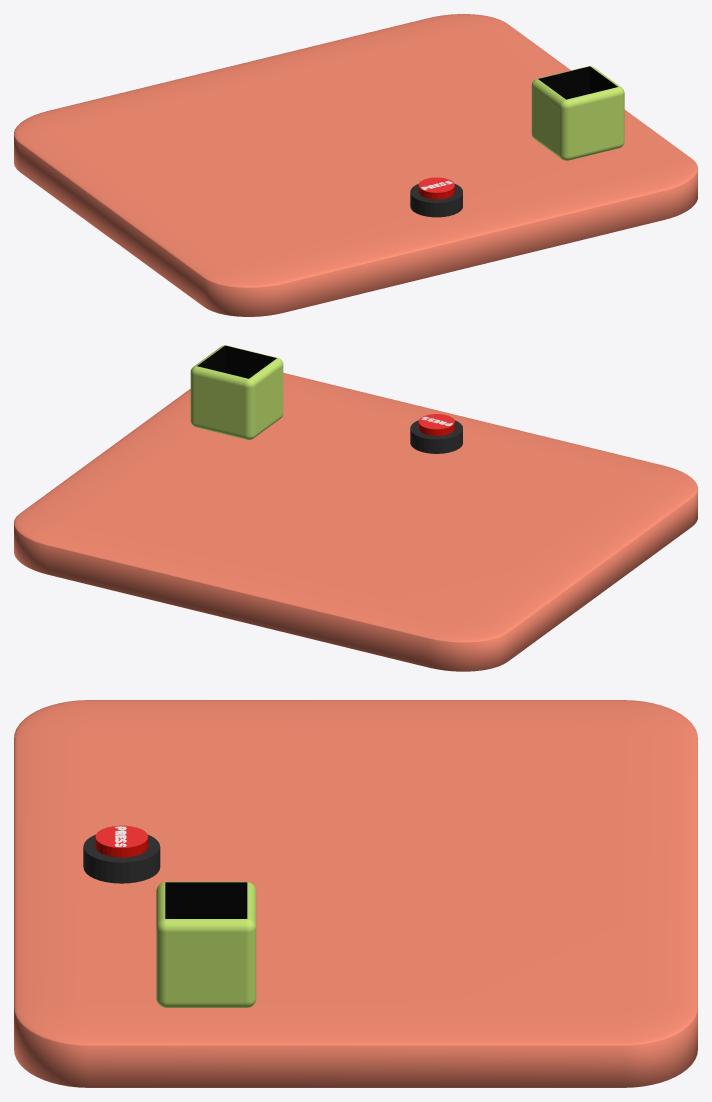
Rendered from Environment.fbx.
3 renders of one model, top to bottom at view 1: azimuth 30°, elevation 25°; view 2: azimuth 150°, elevation 25°; view 3: azimuth 270°, elevation 25°, orthographic. The views are drawn at different scales.
Parts seen in each view (by area): view 1: Base, Container, Cylinder.004, Cylinder.005; view 2: Base, Container, Cylinder.004, Cylinder.005; view 3: Base, Container, Cylinder.004, Cylinder.005.
Boxes of the visible parts, <box> form: Base: <box>14,14,697,316</box>; Container: <box>531,66,624,160</box>; Cylinder.004: <box>410,183,462,217</box>; Cylinder.005: <box>418,177,454,199</box>; Base: <box>14,373,697,671</box>; Container: <box>190,345,283,439</box>; Cylinder.004: <box>410,420,462,453</box>; Cylinder.005: <box>418,414,454,435</box>; Base: <box>14,700,697,1087</box>; Container: <box>156,881,256,1007</box>; Cylinder.004: <box>83,834,160,883</box>; Cylinder.005: <box>95,825,148,857</box>.
Bounding box in the file's own units: 921 × 175 × 770.
